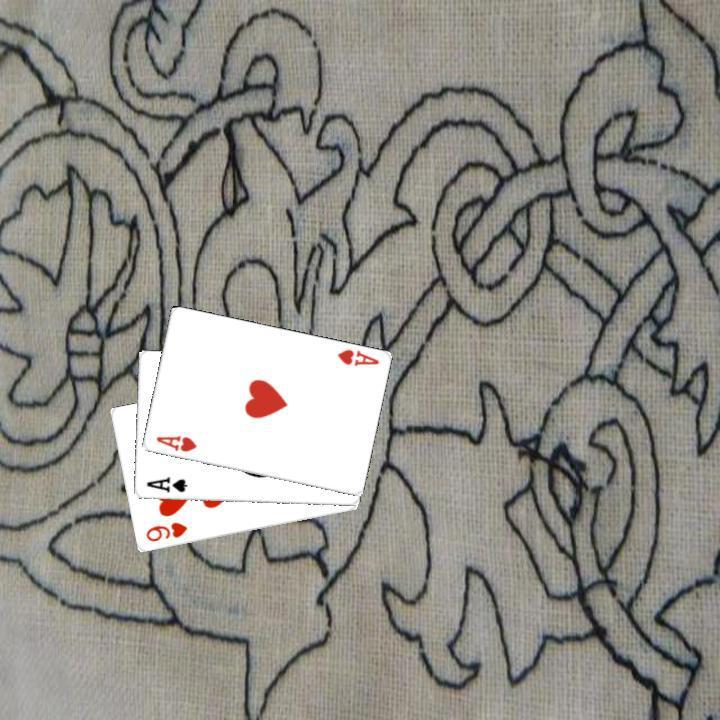9: (141, 518, 189, 544)
A: (333, 345, 380, 369), (151, 431, 198, 454), (142, 473, 189, 495)
